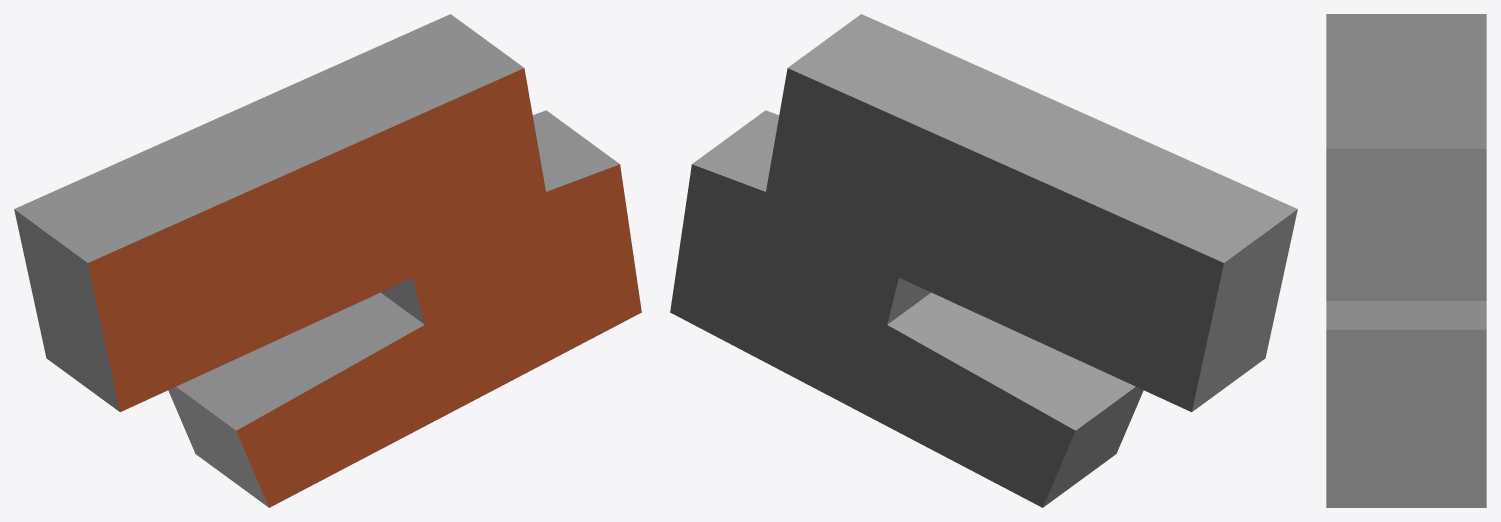
Rendered from construction_4263_assumed_A_Casa_h6m.obj.
3 views of the same model, side by side, from view 1: azimuth 30°, elevation 25°; view 2: azimuth 150°, elevation 25°; view 3: azimuth 270°, elevation 25° (orthographic). The views are drawn at different scales.
Parts seen in each view (by area): view 1: construction_4263_assumed_A_Casa; view 2: construction_4263_assumed_A_Casa; view 3: construction_4263_assumed_A_Casa.
Part boxes in pixels (x1,y1,x2,y2): construction_4263_assumed_A_Casa: [14, 14, 641, 507]; construction_4263_assumed_A_Casa: [670, 14, 1297, 507]; construction_4263_assumed_A_Casa: [1326, 14, 1486, 507].
Size of the model in its own units: 26.01 by 16.94 by 6.
